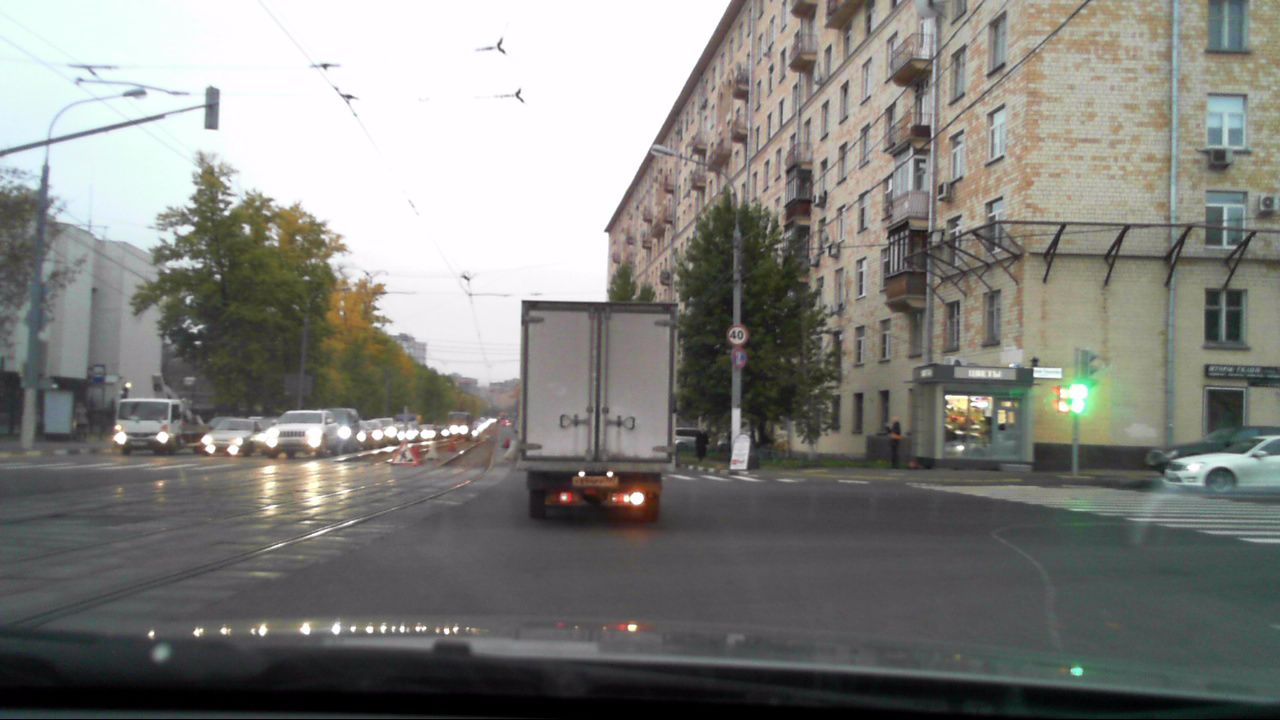speed_warning_40: (726, 323, 747, 345)
